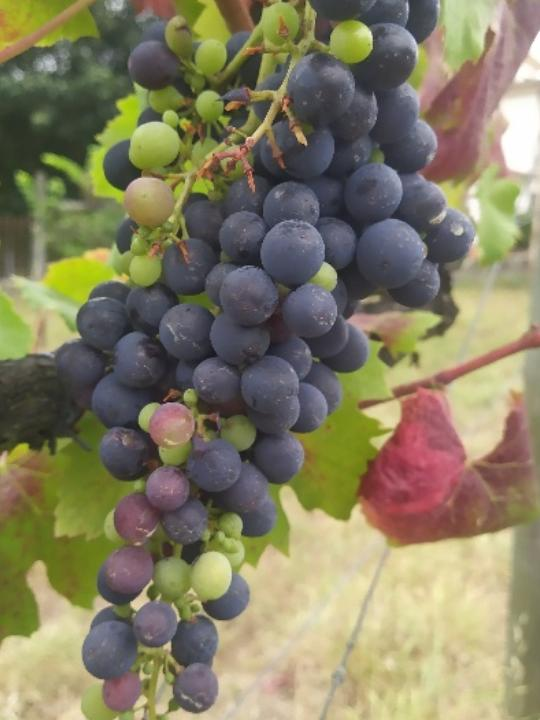grape: (52, 0, 481, 720)
